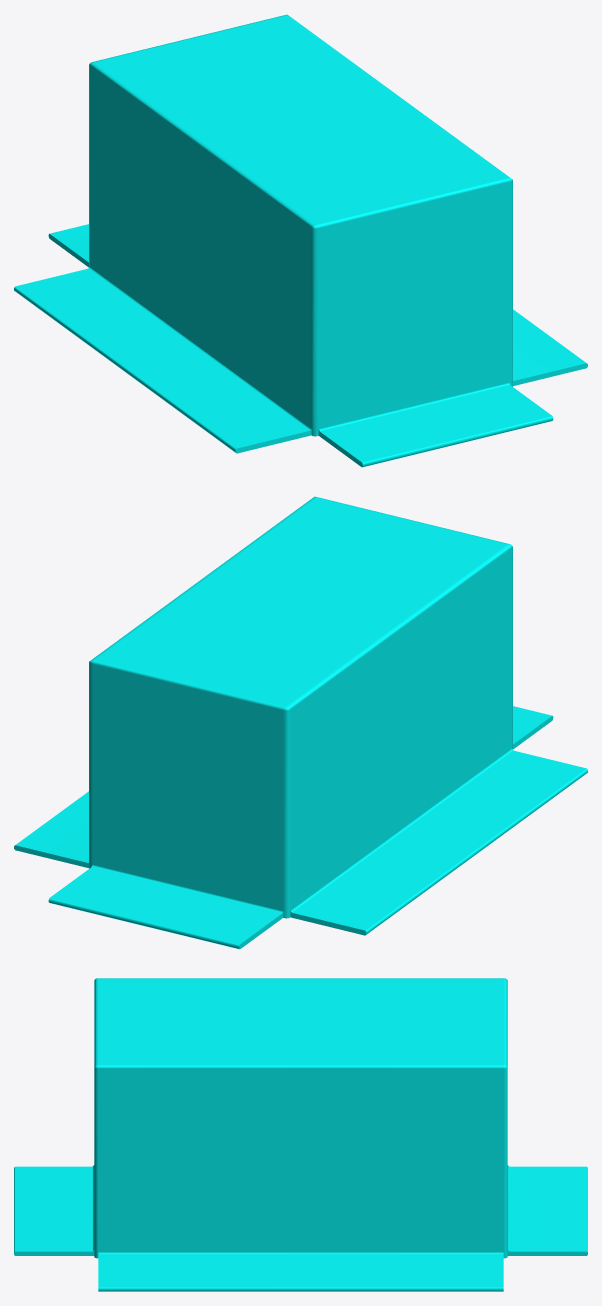
The model's file is Long_Splayed_Box_Low.fbx.
The picture shows the model from 3 angles, top to bottom: view 1: azimuth 30°, elevation 25°; view 2: azimuth 150°, elevation 25°; view 3: azimuth 270°, elevation 25°; orthographic projection. The views are drawn at different scales.
Visible parts, largest first — view 1: Long_Splayed_Box_low; view 2: Long_Splayed_Box_low; view 3: Long_Splayed_Box_low.
Part boxes in pixels (x1,y1,x2,y2): Long_Splayed_Box_low: (14,14,587,467); Long_Splayed_Box_low: (14,496,587,949); Long_Splayed_Box_low: (14,978,587,1291).
Bounding box in the file's own units: 440 × 250 × 679.
